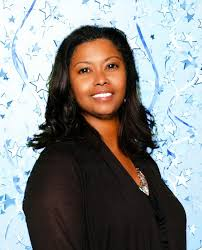black_female: (67, 37, 138, 121)
